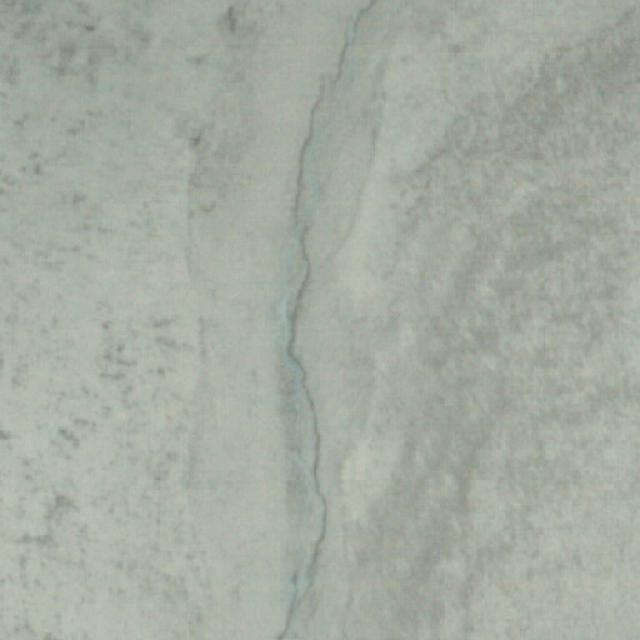Longitudinal: (241, 10, 395, 627)
